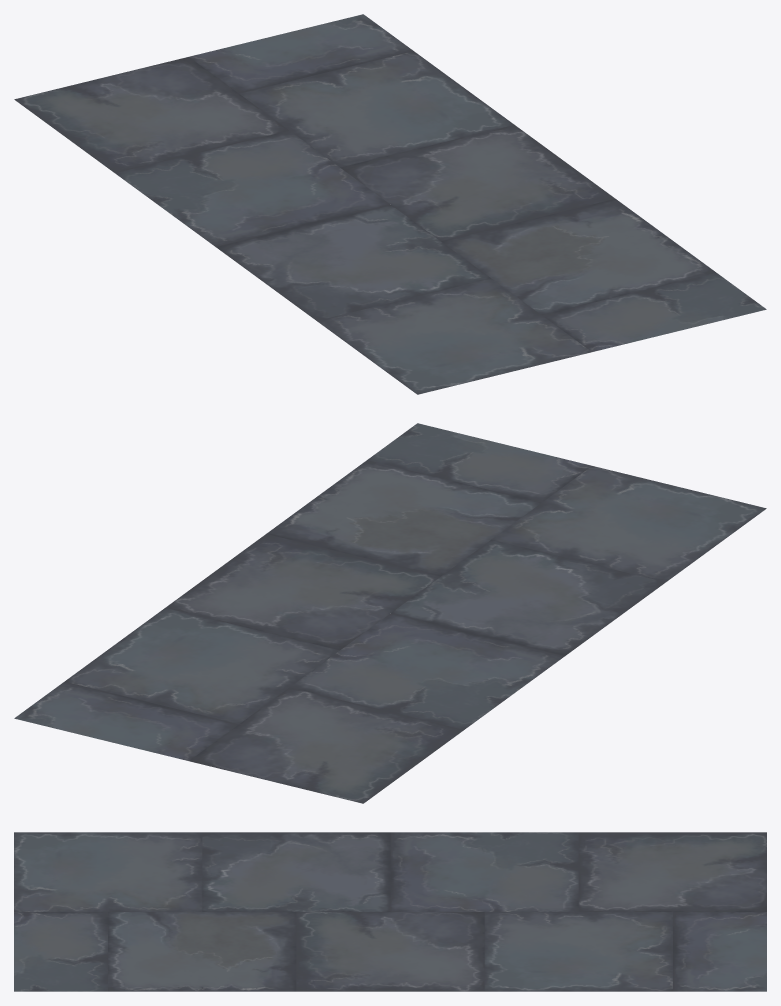
Rendered from Castle Ground X Dark 2x4.fbx.
The picture shows the model from 3 angles, top to bottom: view 1: azimuth 30°, elevation 25°; view 2: azimuth 150°, elevation 25°; view 3: azimuth 270°, elevation 25°; orthographic projection. The views are drawn at different scales.
Visible parts, largest first — view 1: Castle Ground X Dark 2x4; view 2: Castle Ground X Dark 2x4; view 3: Castle Ground X Dark 2x4.
Part boxes in pixels (box(x1,y1,x2,y2)): Castle Ground X Dark 2x4: box(14, 14, 766, 394); Castle Ground X Dark 2x4: box(14, 423, 766, 803); Castle Ground X Dark 2x4: box(14, 832, 766, 991).
Bounding box in the file's own units: 1.5 × 9.55e-07 × 3.
